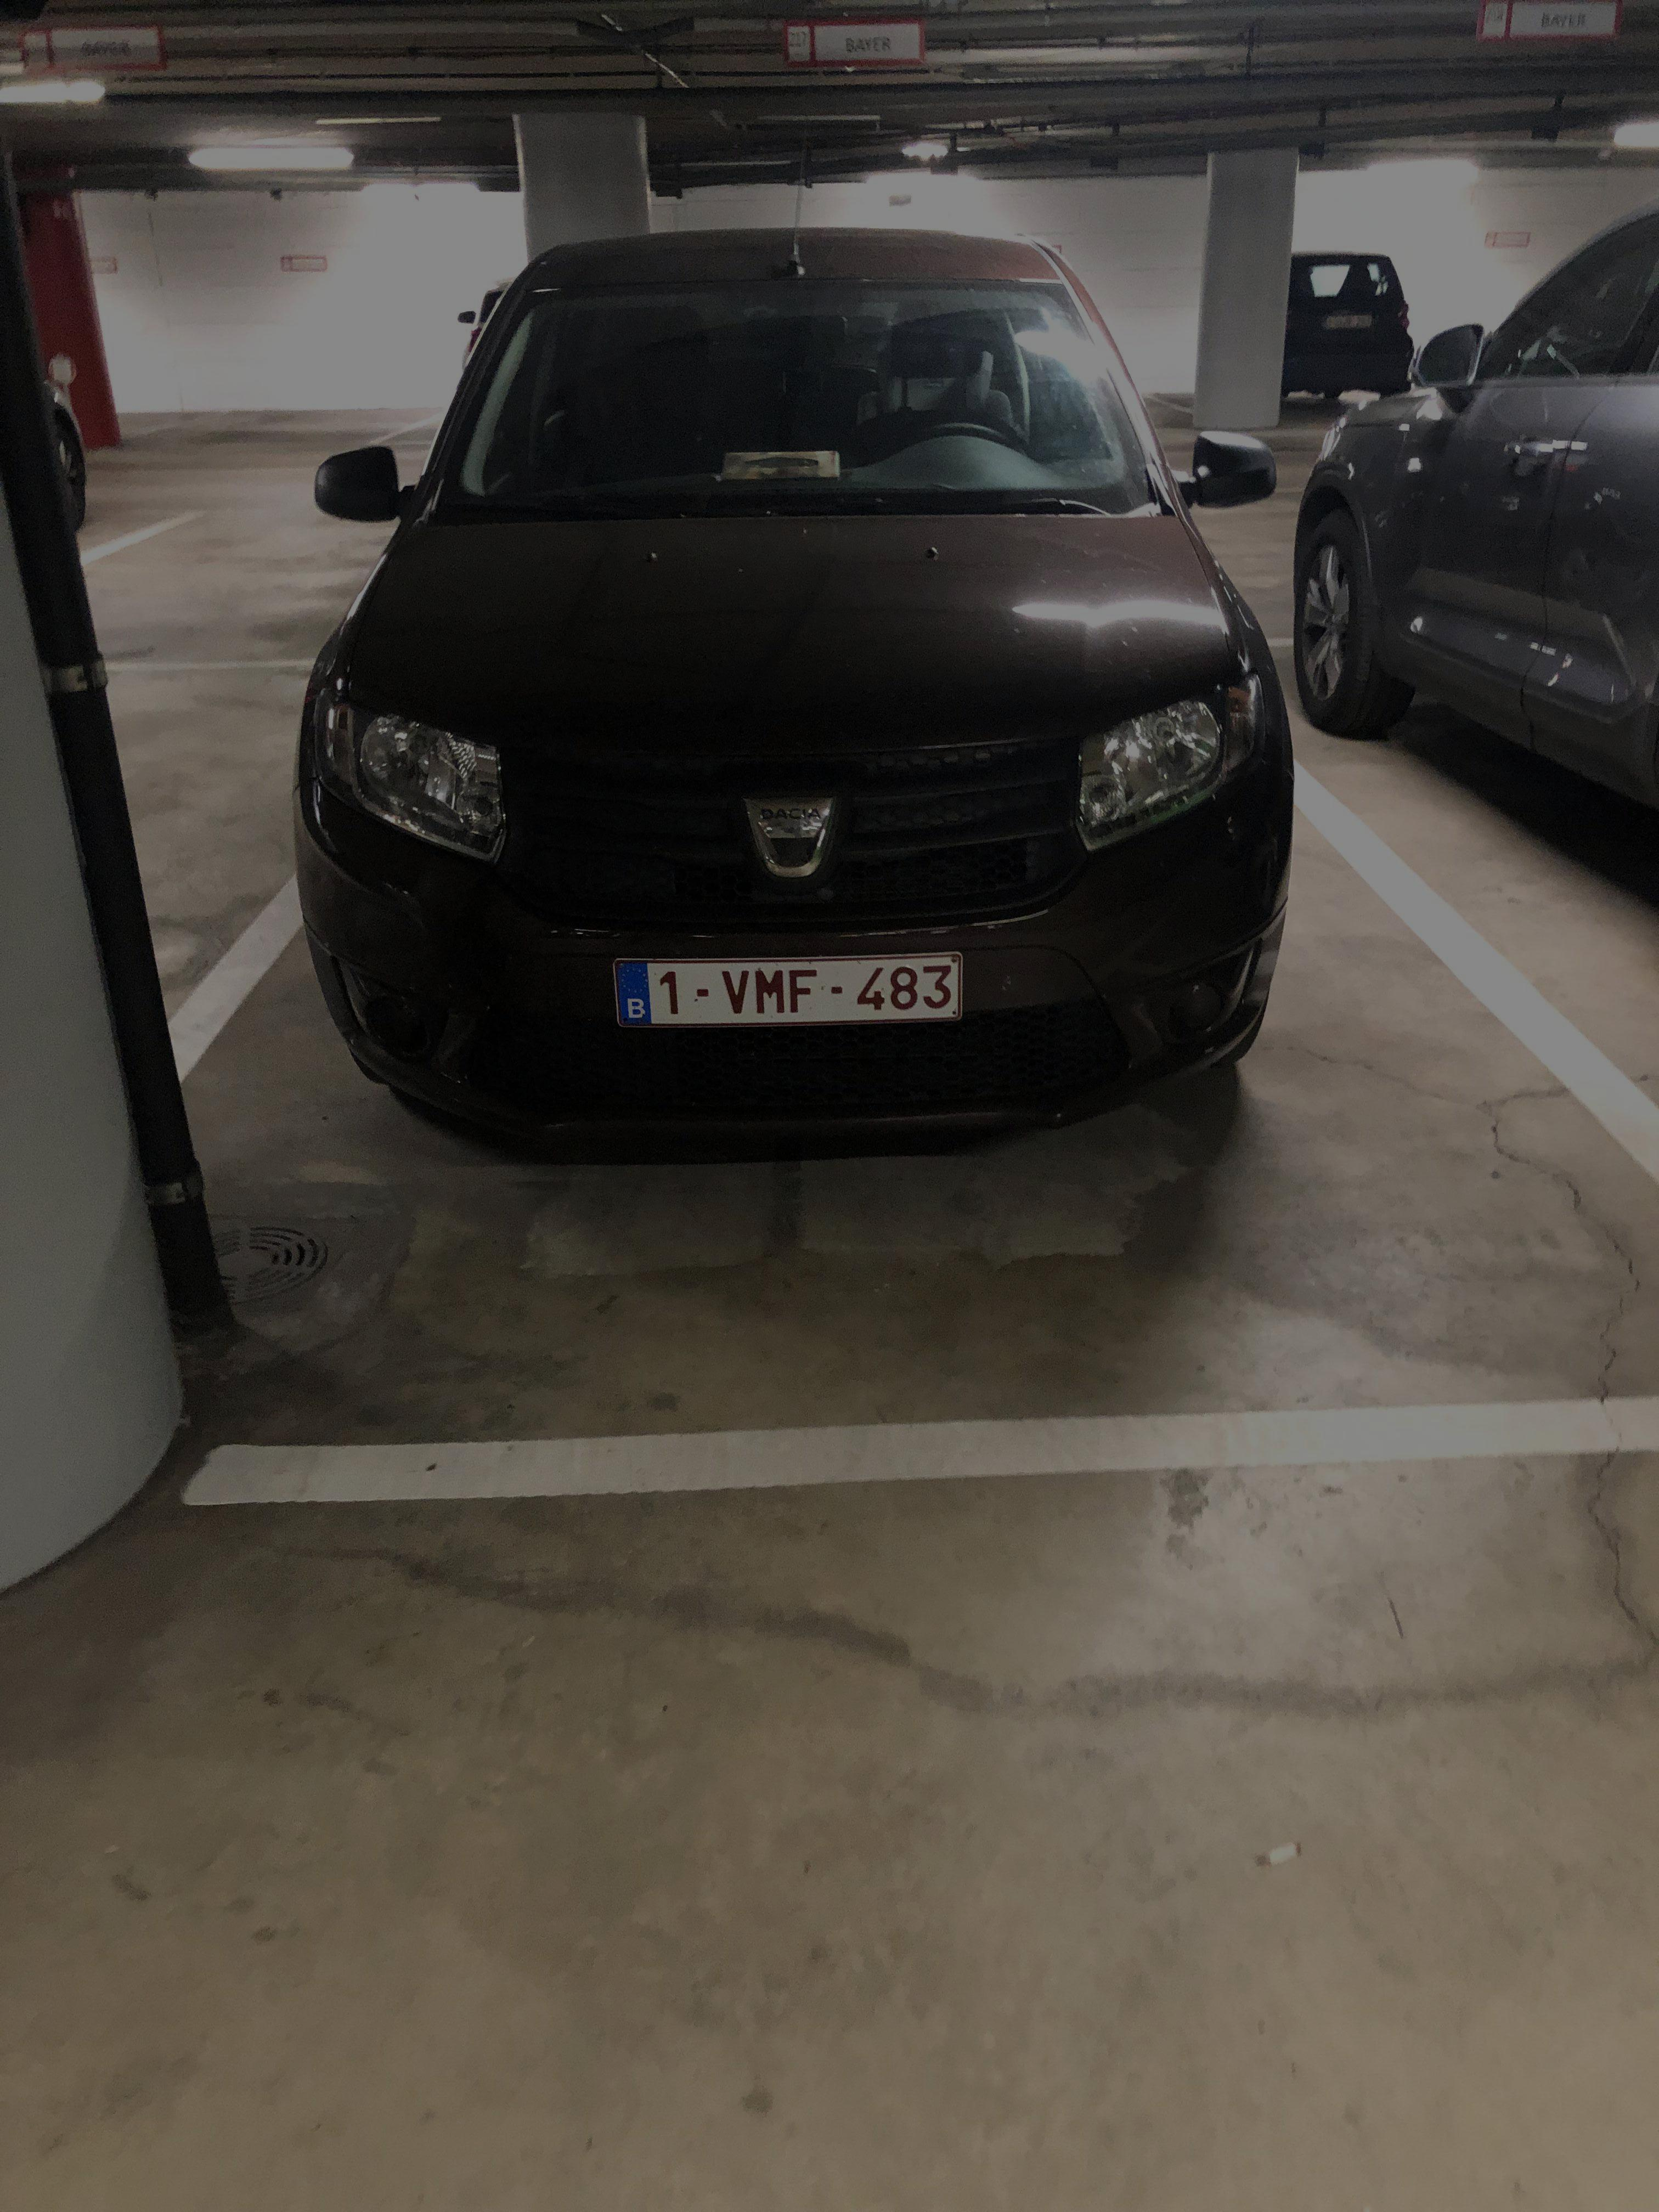plate: (590, 945, 979, 1031)
